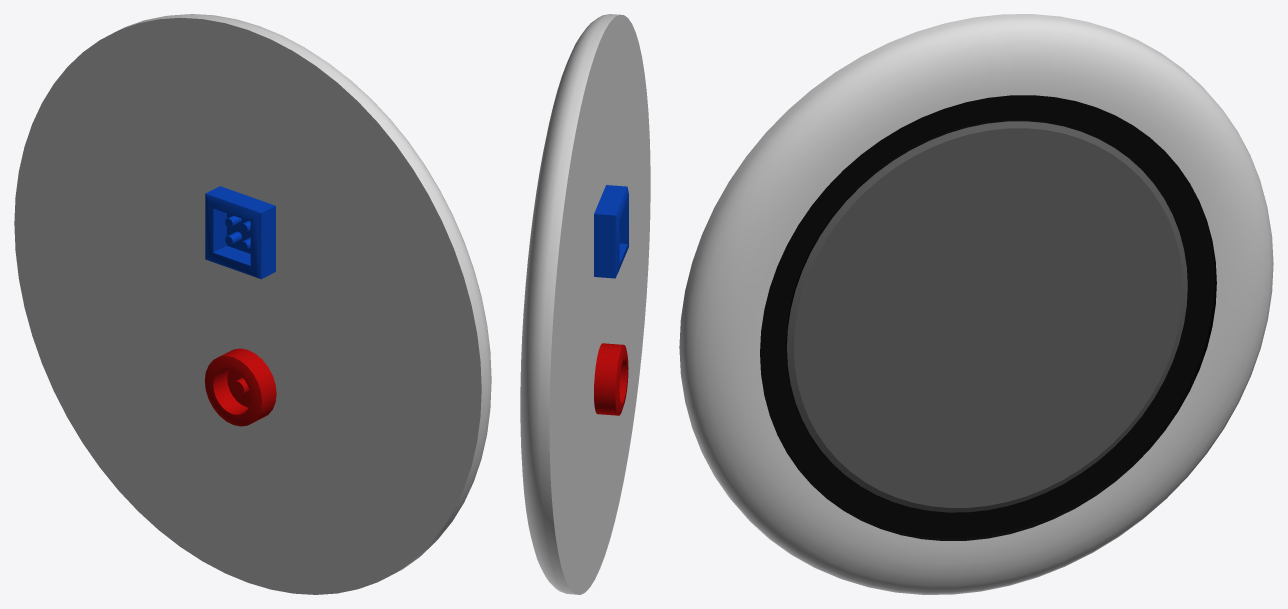
File: Lamp.gltf
3 renders of one model, left to right at view 1: azimuth 30°, elevation 25°; view 2: azimuth 150°, elevation 25°; view 3: azimuth 270°, elevation 25°, orthographic. The views are drawn at different scales.
Parts seen in each view (by area): view 1: base; view 2: base; view 3: base.
Boxes of the visible parts, box(x1,y1,x2,y2) form: base: box(14, 14, 491, 594); base: box(520, 14, 650, 594); base: box(679, 14, 1273, 594).
Size of the model in its own units: 0.1903 by 0.5 by 0.4732.
